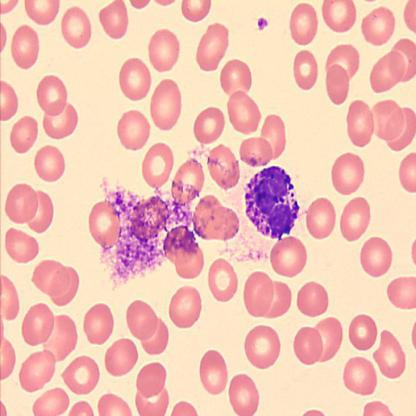Basophil: (243, 163, 300, 244)
